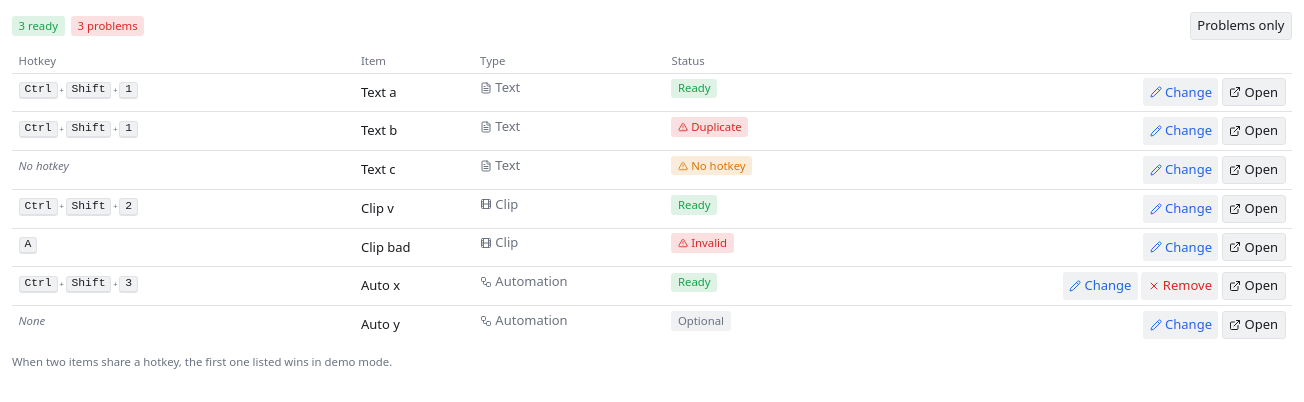
Test: HotkeysTable › shows a save error and keeps capture open
Click the button with test id "hotkey-change-c".
click(1181, 170)  # box top-left (1143, 156), bottom-right (1218, 184)
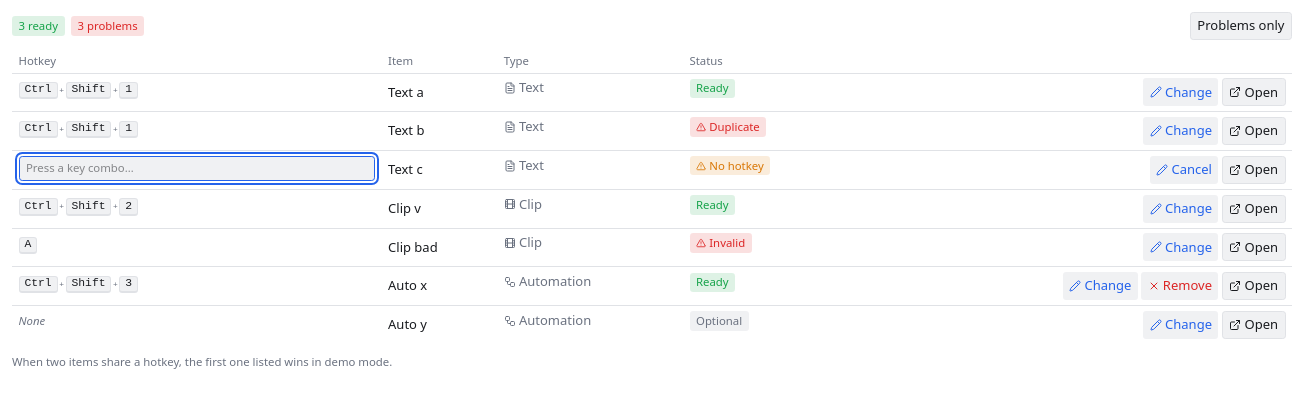
Press 4 in the field with test id "hotkey-capture-c", box top-left (18, 156), bottom-right (375, 181)
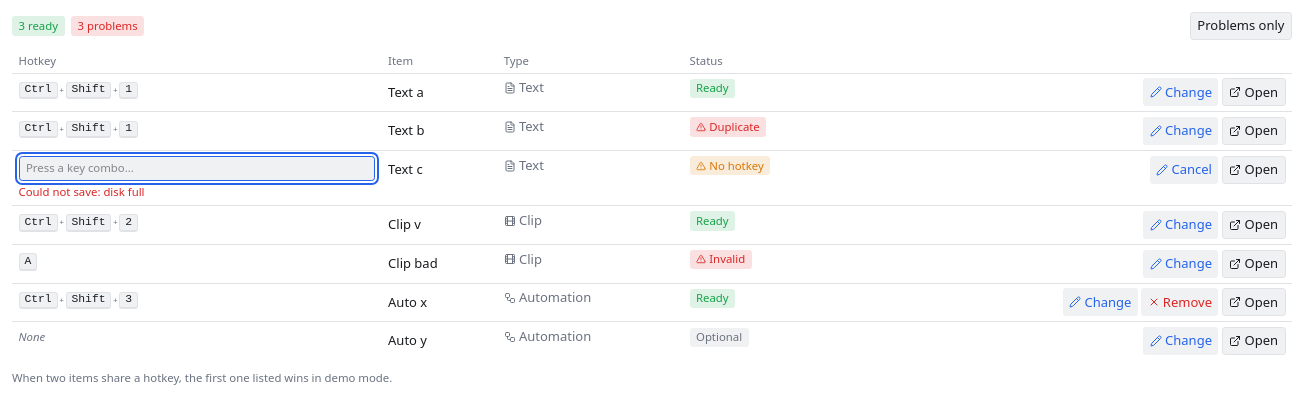
Expected: the message with test id "hotkey-error-c" shows "disk full", top-left (18, 184), bottom-right (144, 199)
